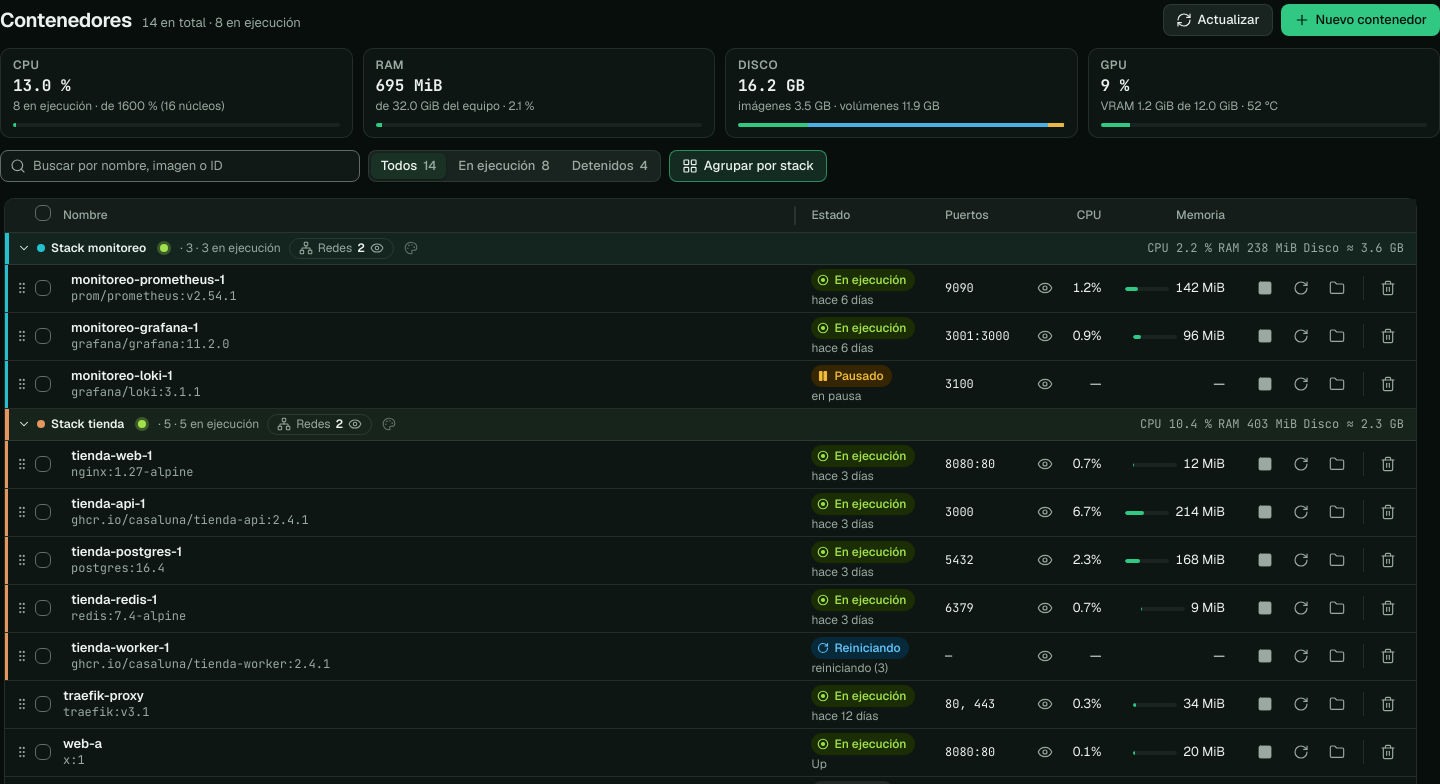
it: Copiar y Abrir puerto › si el portapapeles falla del todo, avisa y muestra el texto para copiarlo a mano
Expected: the link "web-a" is shown, x1=63 y1=735 x2=102 y2=752
Step 1. Click the button named "Ver puertos e IPs de web-a" → [1045, 752], box x1=1029 y1=736 x2=1061 y2=768
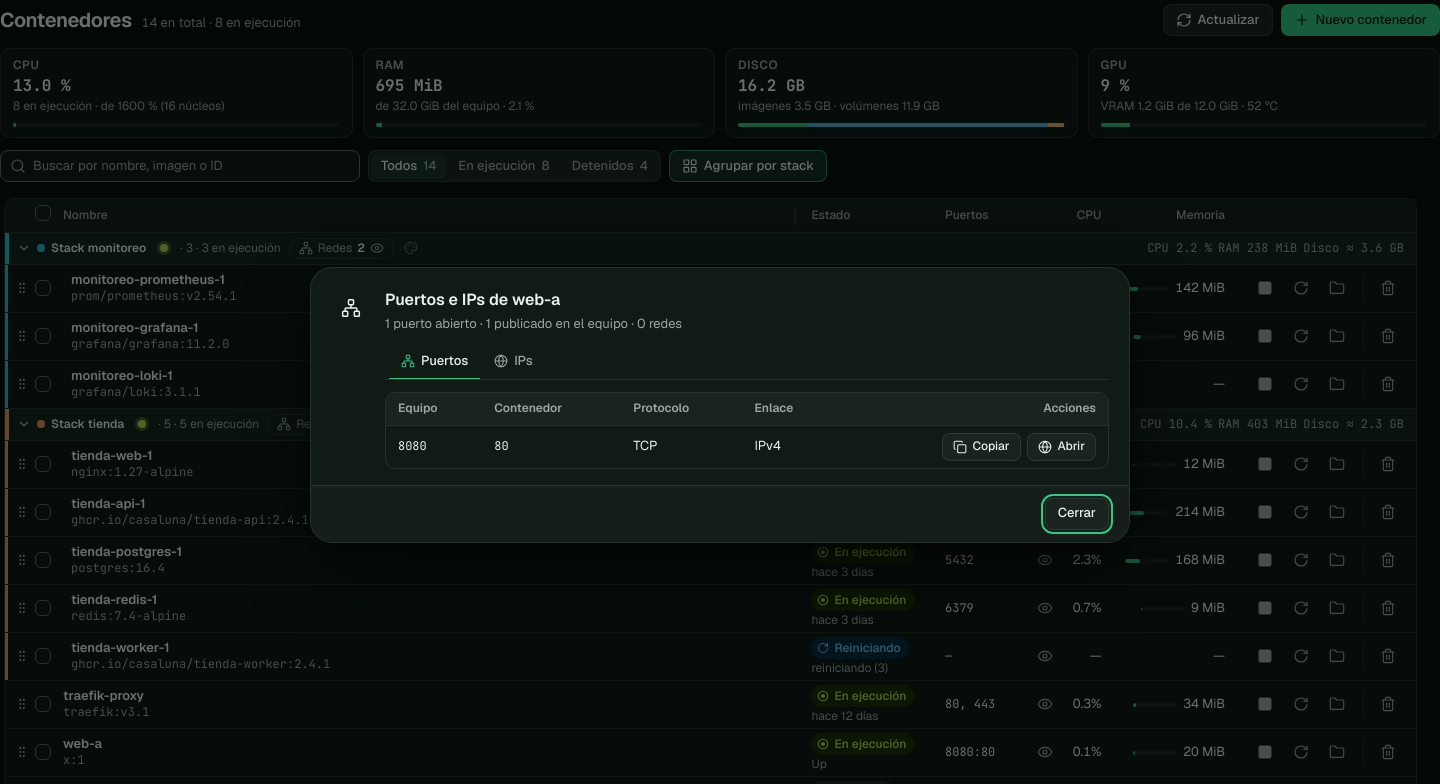
Step 2. Click the button with aria-label "Copiar puerto 8080 de web-a" → [981, 447], box x1=942 y1=433 x2=1020 y2=461
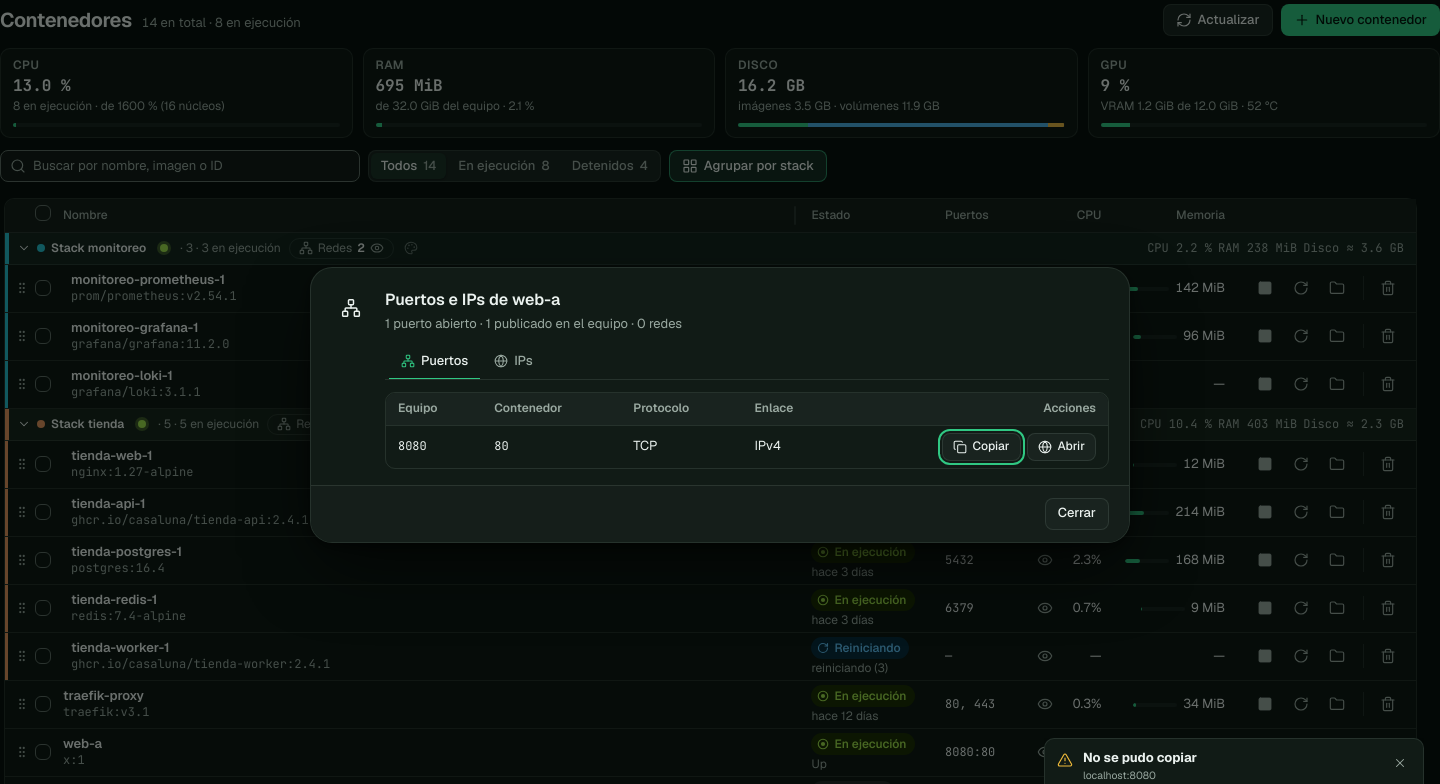
Now the text "No se pudo copiar" is shown, box x1=1083 y1=749 x2=1197 y2=766
Now the text "localhost:8080" is shown, box x1=1083 y1=769 x2=1156 y2=782
